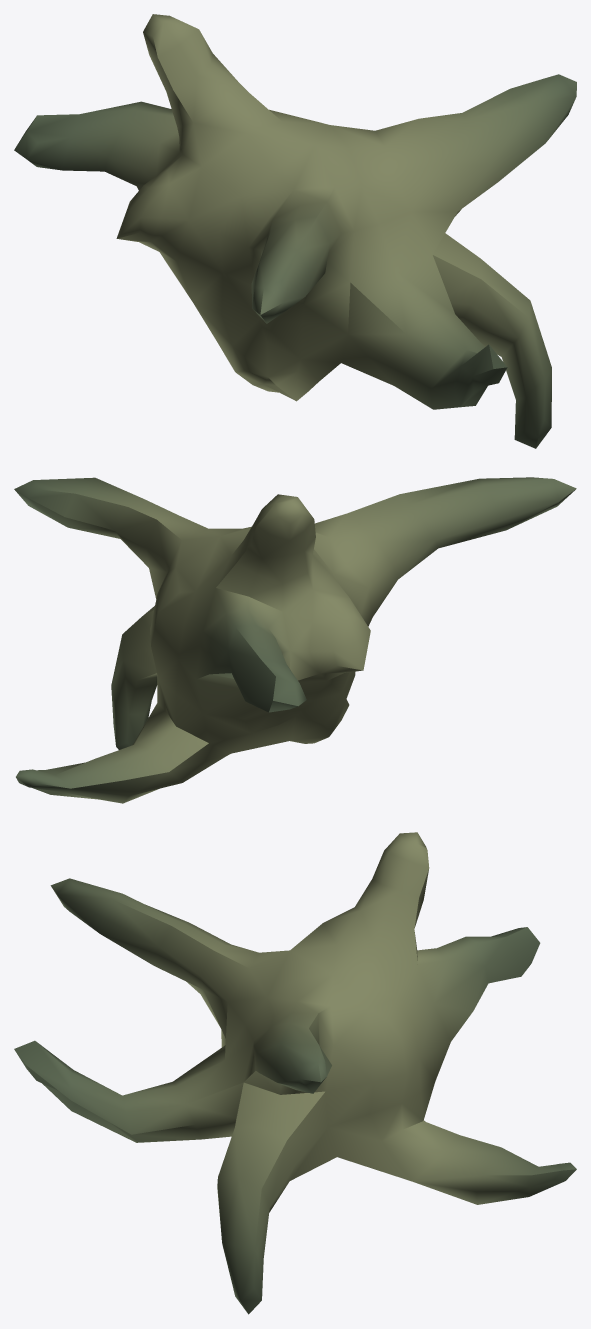
File: microscopic-protists-amoeba_v2.fbx
The picture shows the model from 3 angles, top to bottom: view 1: azimuth 30°, elevation 25°; view 2: azimuth 150°, elevation 25°; view 3: azimuth 270°, elevation 25°; orthographic projection. The views are drawn at different scales.
Parts seen in each view (by area): view 1: Amoeba_v2; view 2: Amoeba_v2; view 3: Amoeba_v2.
Part boxes in pixels (x1=…): Amoeba_v2: x1=14, y1=14, x2=576, y2=448; Amoeba_v2: x1=14, y1=477, x2=576, y2=803; Amoeba_v2: x1=14, y1=832, x2=576, y2=1314.
Bounding box in the file's own units: 0.2483 × 0.2147 × 0.3.
